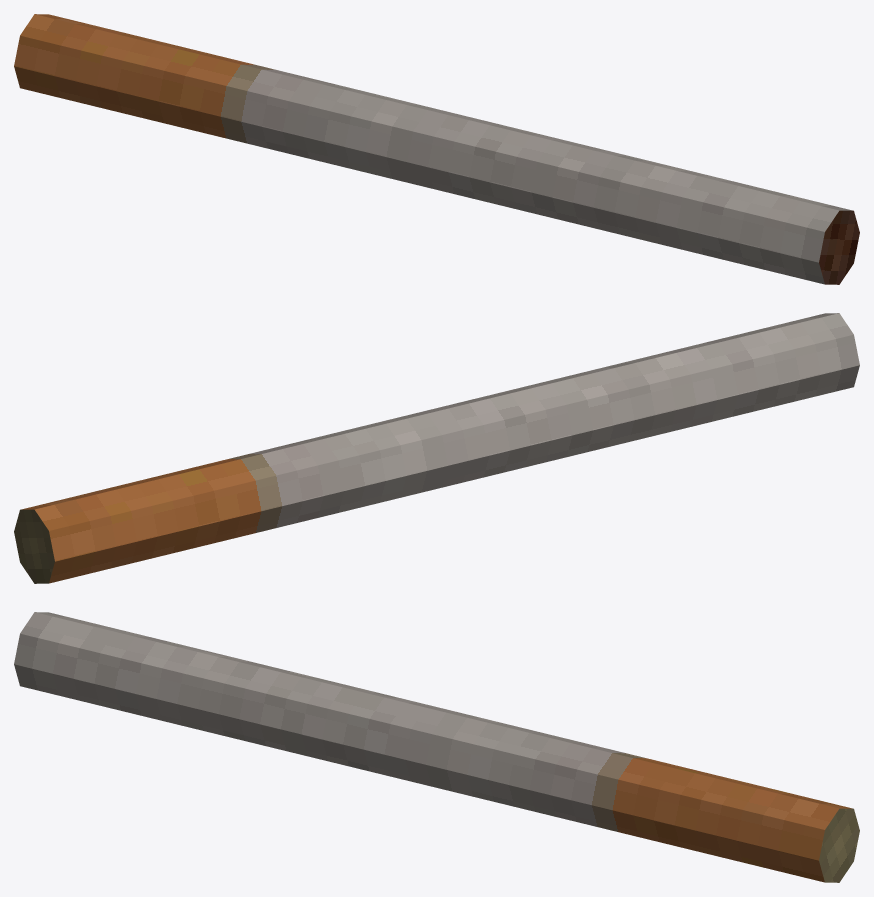
The picture shows the model from 3 angles, top to bottom: view 1: azimuth 90°, elevation 25°; view 2: azimuth 150°, elevation 25°; view 3: azimuth 270°, elevation 25°; orthographic projection.
Visible parts, largest first — view 1: cig_1; view 2: cig_1; view 3: cig_1.
Part boxes in pixels (x1,y1,x2,y2): cig_1: (14,14,859,284); cig_1: (14,313,859,583); cig_1: (14,612,859,882).
Bounding box in the file's own units: 0.098 × 0.015 × 0.1547.
1 material, 1 textured.
